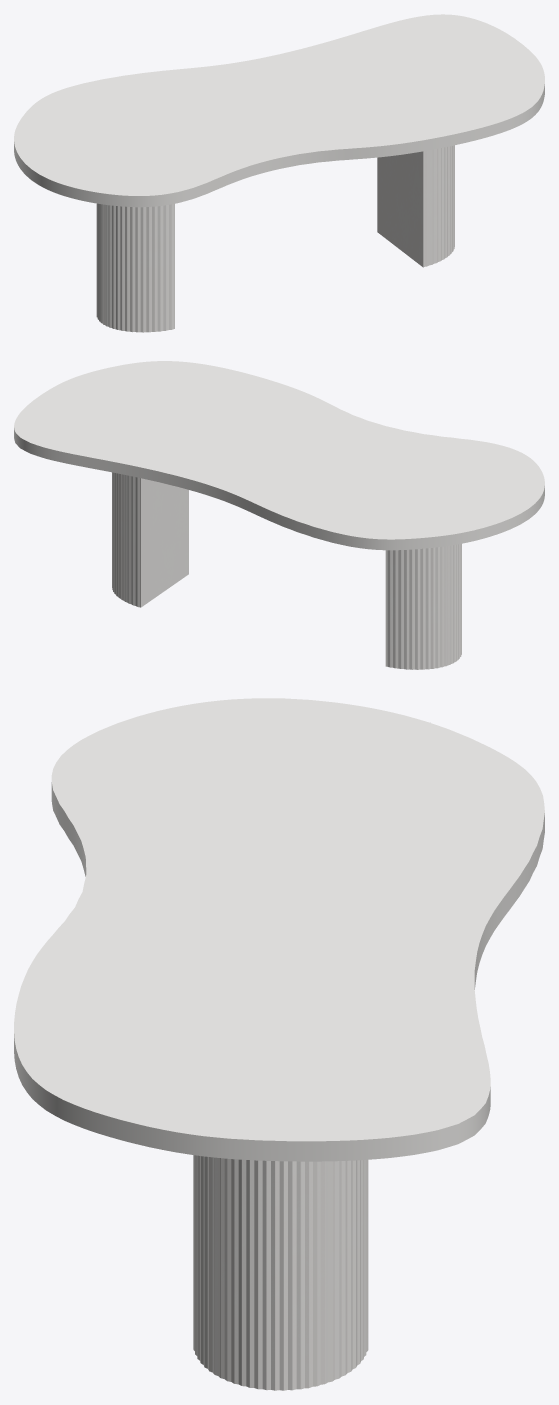
Rendered from purewhite_wave_standard_flute.glb.
3 renders of one model, top to bottom at view 1: azimuth 30°, elevation 25°; view 2: azimuth 150°, elevation 25°; view 3: azimuth 270°, elevation 25°, orthographic. The views are drawn at different scales.
Parts seen in each view (by area): view 1: standard_wave, flute; view 2: standard_wave, flute; view 3: standard_wave, flute.
Part boxes in pixels (bbox=[...]): standard_wave: bbox=[14, 14, 544, 207]; flute: bbox=[96, 145, 454, 332]; standard_wave: bbox=[14, 361, 544, 550]; flute: bbox=[112, 472, 461, 669]; standard_wave: bbox=[14, 698, 544, 1161]; flute: bbox=[193, 1155, 368, 1390].
Bounding box in the file's own units: 7.5 × 2.5 × 3.8.
1 material, 1 textured.
